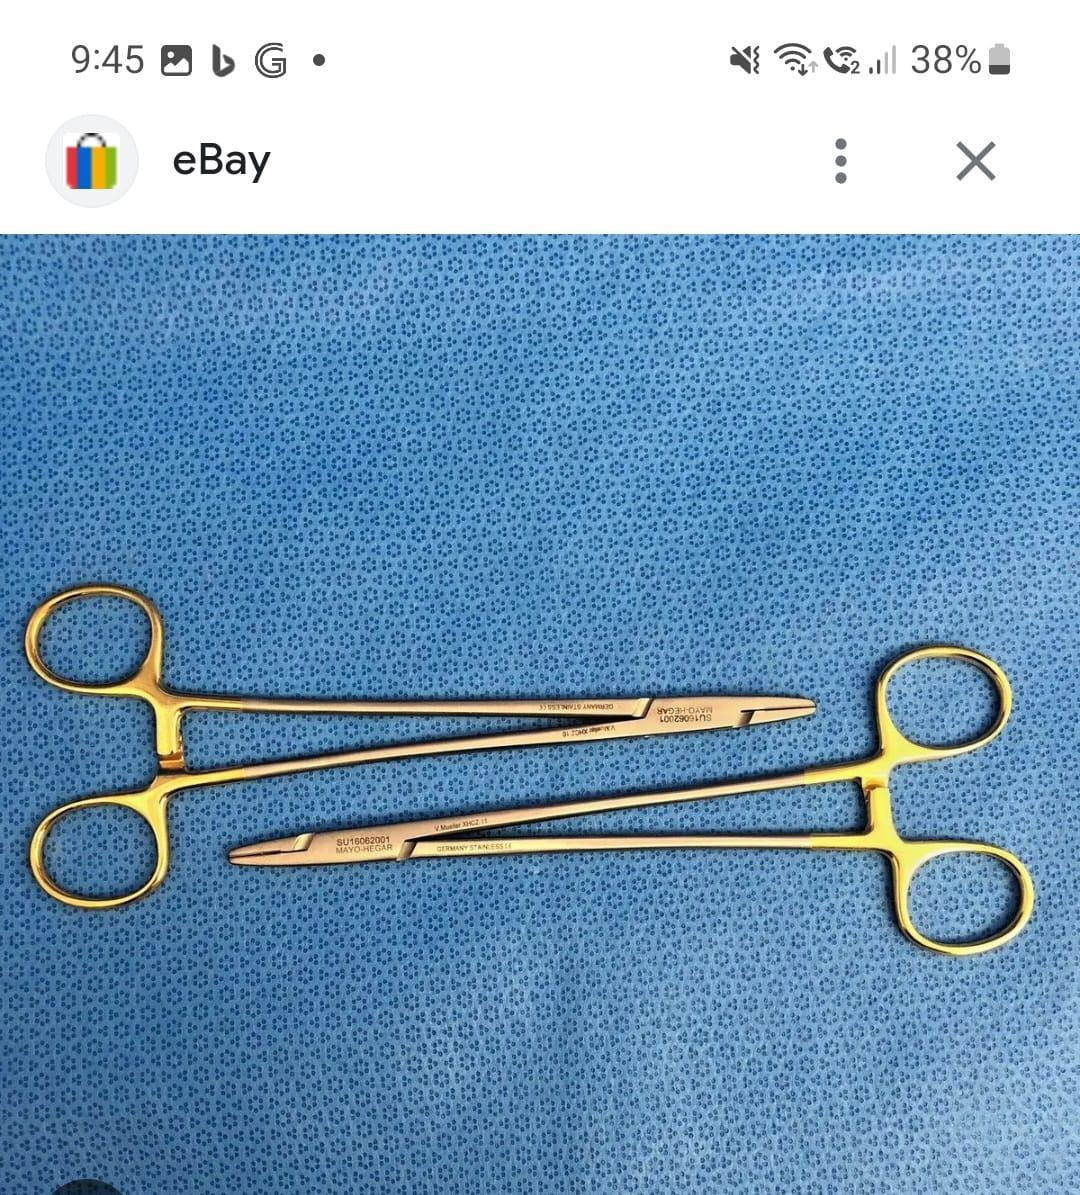Needle Holder: (14, 570, 818, 908), (224, 644, 1032, 956)
